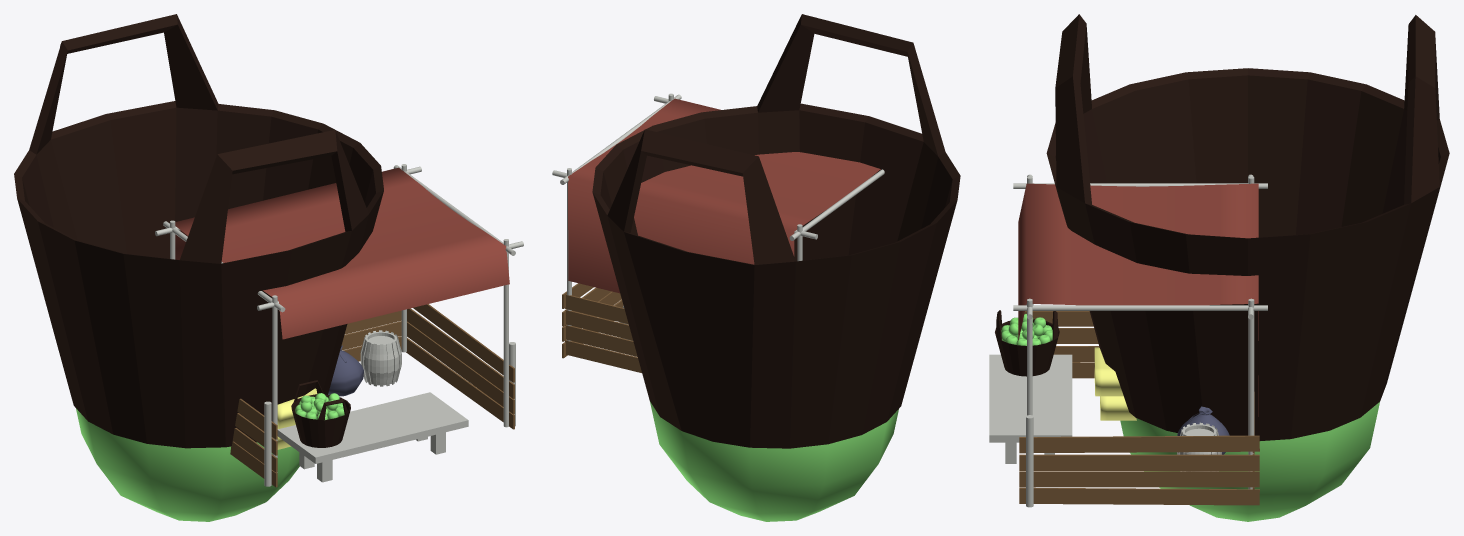
The model's file is merchant-tent.glb.
The picture shows the model from 3 angles, left to right: view 1: azimuth 30°, elevation 25°; view 2: azimuth 150°, elevation 25°; view 3: azimuth 270°, elevation 25°; orthographic projection. The views are drawn at different scales.
Visible parts, largest first — view 1: Circle.002, Plane, apple.045, table, barrel, Circle.001, Cube.007, Cube.005, Cube.006, Cube.004, bag, pole.002 (+7 smaller); view 2: Circle.002, Plane, apple.045, Cube, Cube.001, Cube.002, Cube.003, pole.006, pole.007; view 3: Circle.002, Plane, apple.045, table, Cube.006, Cube.005, Cube.004, Cube.007, Circle.001, pole.007, pole.001, Cube.019 (+9 smaller).
Part boxes in pixels (left/top/right/bottom): Circle.002: left=14, top=14, right=383, bottom=448; Plane: left=175, top=167, right=509, bottom=339; apple.045: left=76, top=408, right=299, bottom=521; table: left=277, top=392, right=468, bottom=482; barrel: left=360, top=330, right=401, bottom=386; Circle.001: left=291, top=380, right=350, bottom=447; Cube.007: left=406, top=337, right=514, bottom=429; Cube.005: left=407, top=308, right=514, bottom=398; Cube.006: left=407, top=321, right=514, bottom=414; Cube.004: left=413, top=304, right=514, bottom=382; bag: left=328, top=345, right=363, bottom=396; pole.002: left=503, top=239, right=508, bottom=427; Circle.002: left=592, top=14, right=960, bottom=448; Plane: left=568, top=98, right=880, bottom=293; apple.045: left=650, top=401, right=898, bottom=521; Cube: left=565, top=340, right=641, bottom=372; Cube.001: left=565, top=324, right=637, bottom=356; Cube.002: left=565, top=309, right=632, bottom=340; Cube.003: left=565, top=294, right=628, bottom=324; pole.006: left=789, top=169, right=884, bottom=240; pole.007: left=560, top=94, right=681, bottom=184; Circle.002: left=1046, top=14, right=1449, bottom=440; Plane: left=1018, top=183, right=1258, bottom=416; apple.045: left=1120, top=402, right=1379, bottom=521; table: left=989, top=354, right=1072, bottom=463; Cube.006: left=1019, top=471, right=1259, bottom=487; Cube.005: left=1019, top=454, right=1259, bottom=470; Cube.004: left=1019, top=435, right=1259, bottom=453; Cube.007: left=1019, top=487, right=1259, bottom=505; Circle.001: left=995, top=310, right=1059, bottom=376; pole.007: left=1013, top=305, right=1267, bottom=310; pole.001: left=1248, top=298, right=1254, bottom=489; Cube.019: left=1094, top=347, right=1123, bottom=396.
Size of the model in its own units: 3.46 by 3.68 by 3.32.
